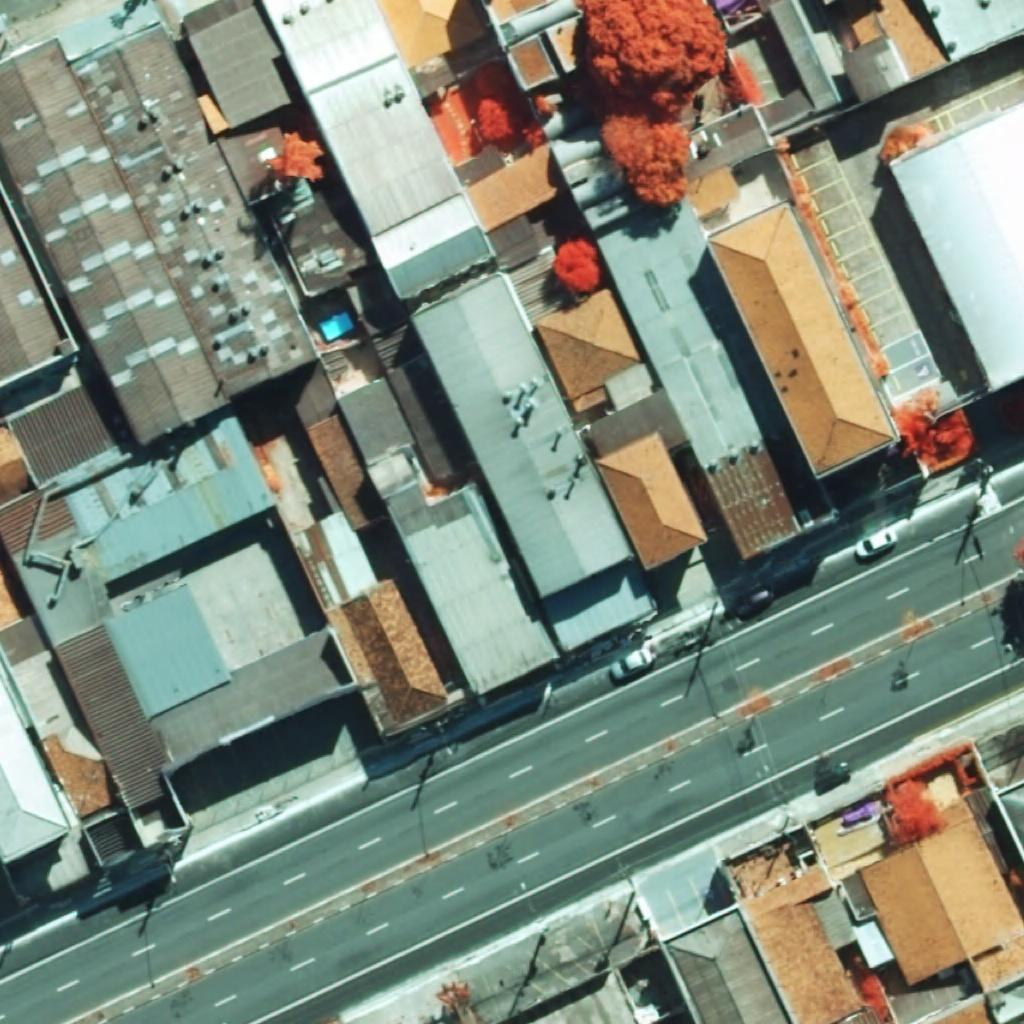pool: (319, 311, 355, 341)
